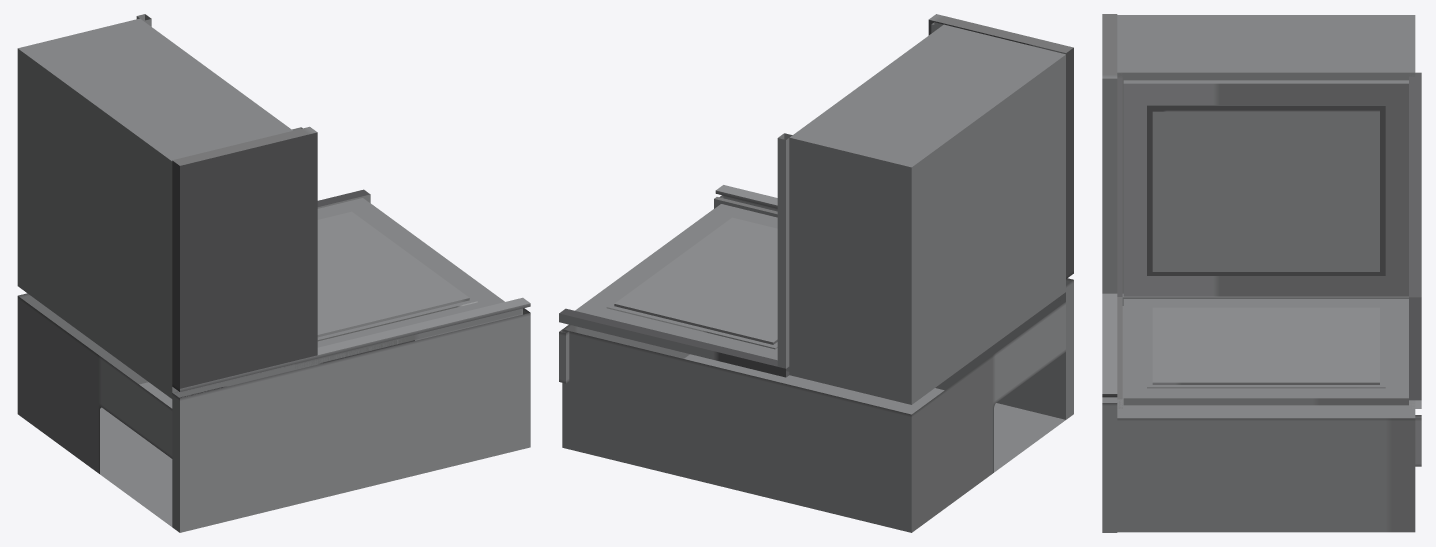
3 renders of one model, left to right at view 1: azimuth 30°, elevation 25°; view 2: azimuth 150°, elevation 25°; view 3: azimuth 270°, elevation 25°, orthographic. The views are drawn at different scales.
Size of the model in its own units: 0.917 by 0.917 by 0.75.
